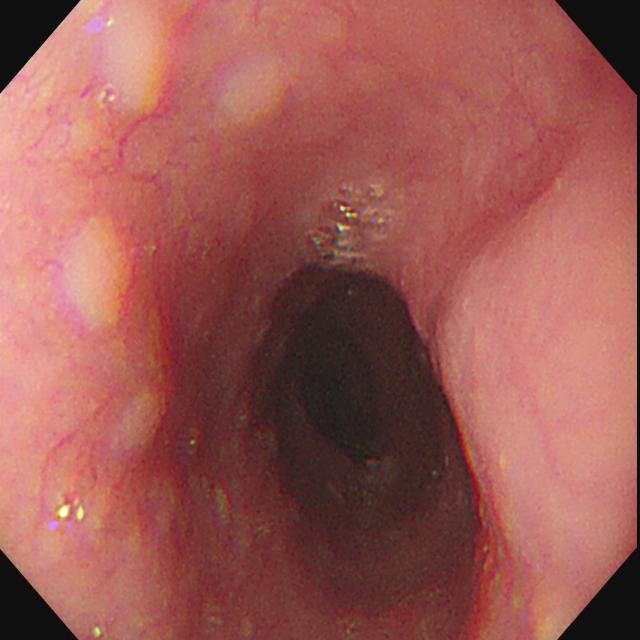A: (58, 207, 199, 529)
E: (259, 296, 427, 508)
T: (305, 177, 396, 274)
